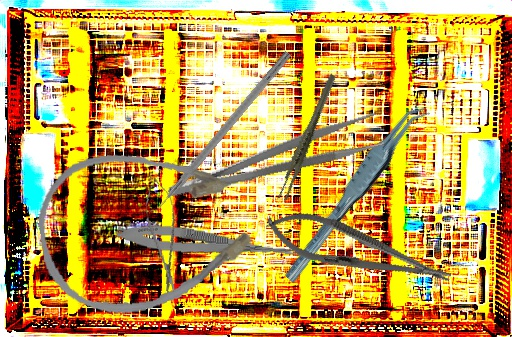Cannula: (31, 135, 272, 324)
Chopper: (136, 43, 292, 223)
Dressing Forceps: (161, 110, 387, 203)
Micro Scissor: (116, 220, 305, 264), (140, 177, 187, 298)
Needle Holder: (260, 200, 457, 302)
Tissue Forceps: (266, 100, 445, 285), (257, 72, 358, 204)
